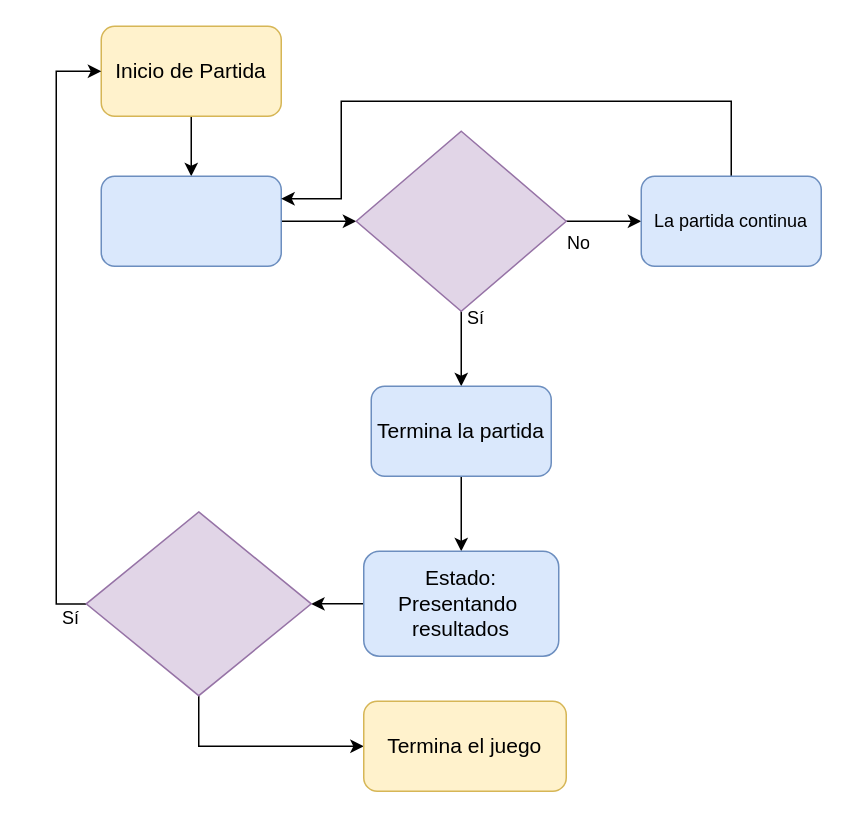
Image size: 848x818. Some labels were removed from this diagram. Here are the shapes that lost their labels. From the top down, the centre of each, then its label:
At [190,220]: "Estado: Jugando".
At [460,220]: "¿Se cumplieron las metas?".
At [198,603]: "¿Se inicia una nueva partida?".
